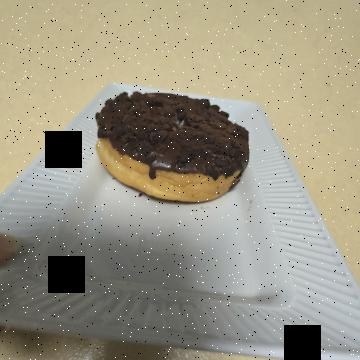doughnut: (77, 107, 216, 284)
